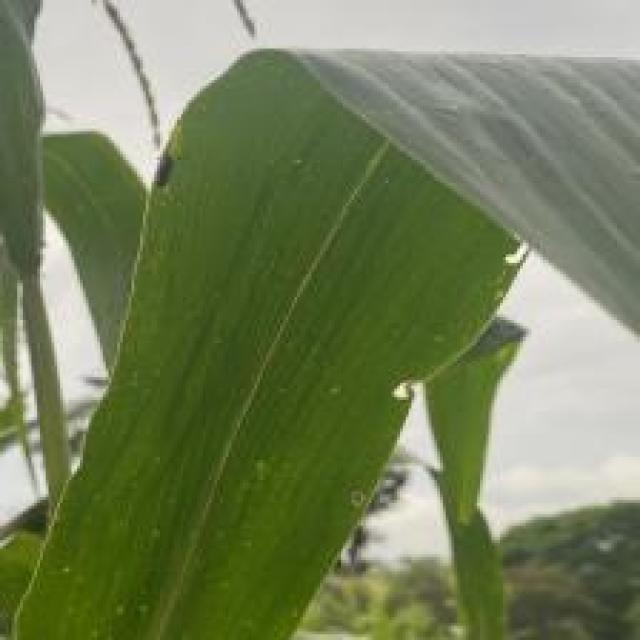Plaga: (140, 148, 211, 217)
